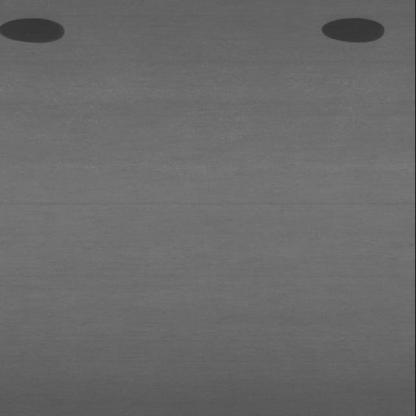oil_spot: (0, 14, 80, 50), (308, 17, 399, 45)
